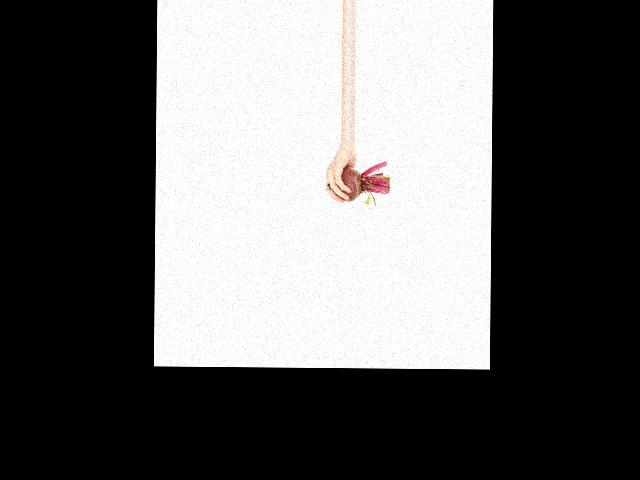beet: (326, 160, 390, 206)
